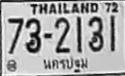1: (110, 15, 115, 51), (76, 17, 81, 52)
2: (54, 17, 69, 52)
3: (87, 16, 103, 51), (25, 17, 40, 52)
7: (7, 17, 23, 53)
NPT: (40, 56, 89, 73)
